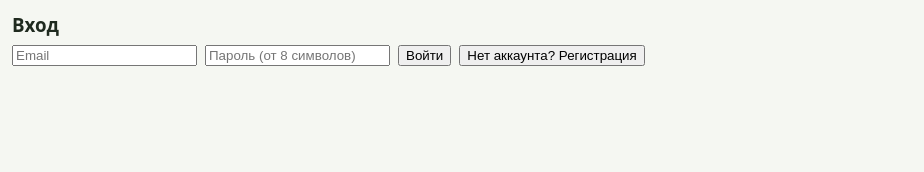
Test case: LoginForm › неверный пароль (401): показывает ошибку сервера, onLogin не вызывается
The image size is (924, 172).
In the field labelled "Email": (104, 56) top-left (12, 45), bottom-right (197, 66), type "a@test.kz"
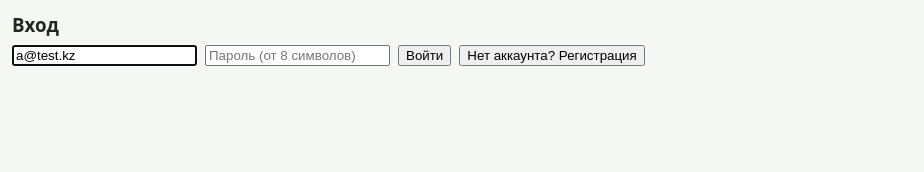
In the password field labelled "Пароль": (298, 56) top-left (205, 45), bottom-right (390, 66), type "wrong-password"
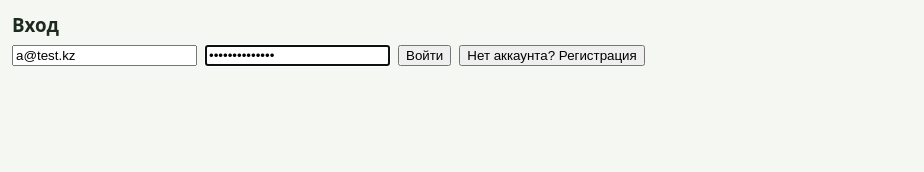
Click the button "Войти": click(425, 56) top-left (398, 45), bottom-right (451, 66)
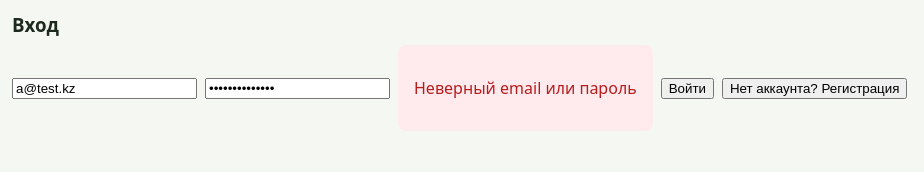
Now the text "Неверный email или пароль" is shown, box top-left (414, 77), bottom-right (637, 99)
